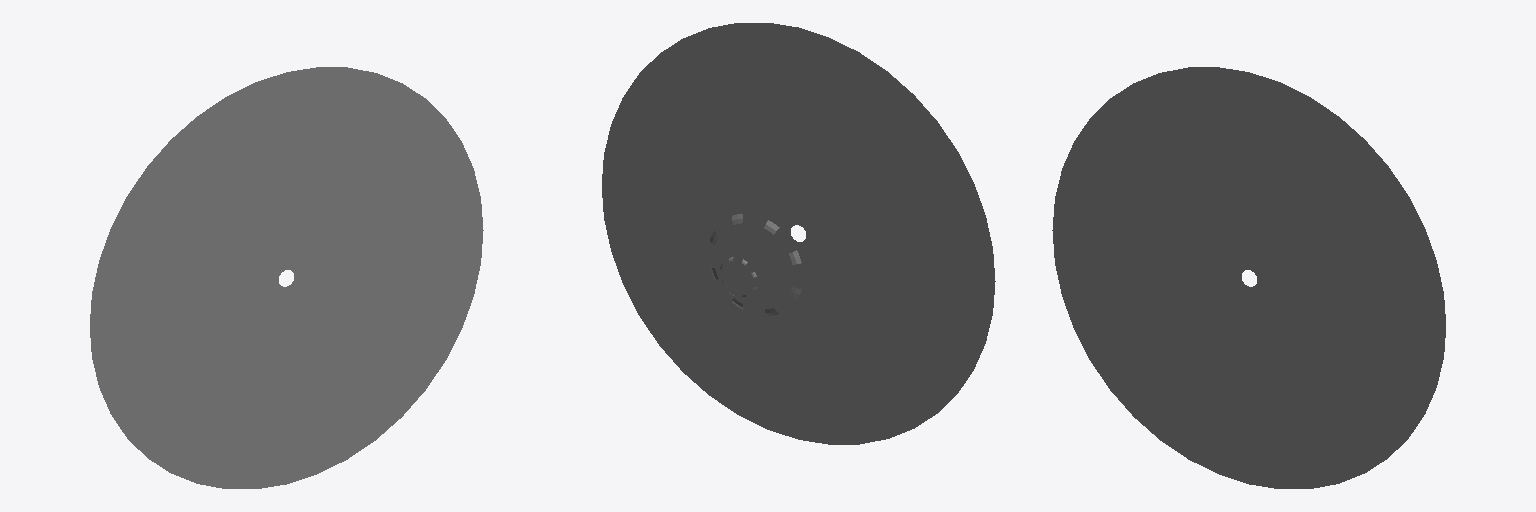
Rendered from Water002.obj.
3 renders of one model, left to right at view 1: azimuth 30°, elevation 25°; view 2: azimuth 150°, elevation 25°; view 3: azimuth 330°, elevation 25°, orthographic.
Parts seen in each view (by area): view 1: WaterSurface00__Water00; view 2: WaterSurface00__Water00, WaterSurface01__Water01, WaterSurface02__Water02; view 3: WaterSurface00__Water00.
Part boxes in pixels (x1,y1,x2,y2): WaterSurface00__Water00: (90, 67, 483, 488); WaterSurface00__Water00: (602, 23, 995, 444); WaterSurface01__Water01: (710, 214, 801, 315); WaterSurface02__Water02: (720, 257, 756, 297); WaterSurface00__Water00: (1052, 67, 1445, 488).
Size of the model in its own units: 2475 by 2475 by 665.